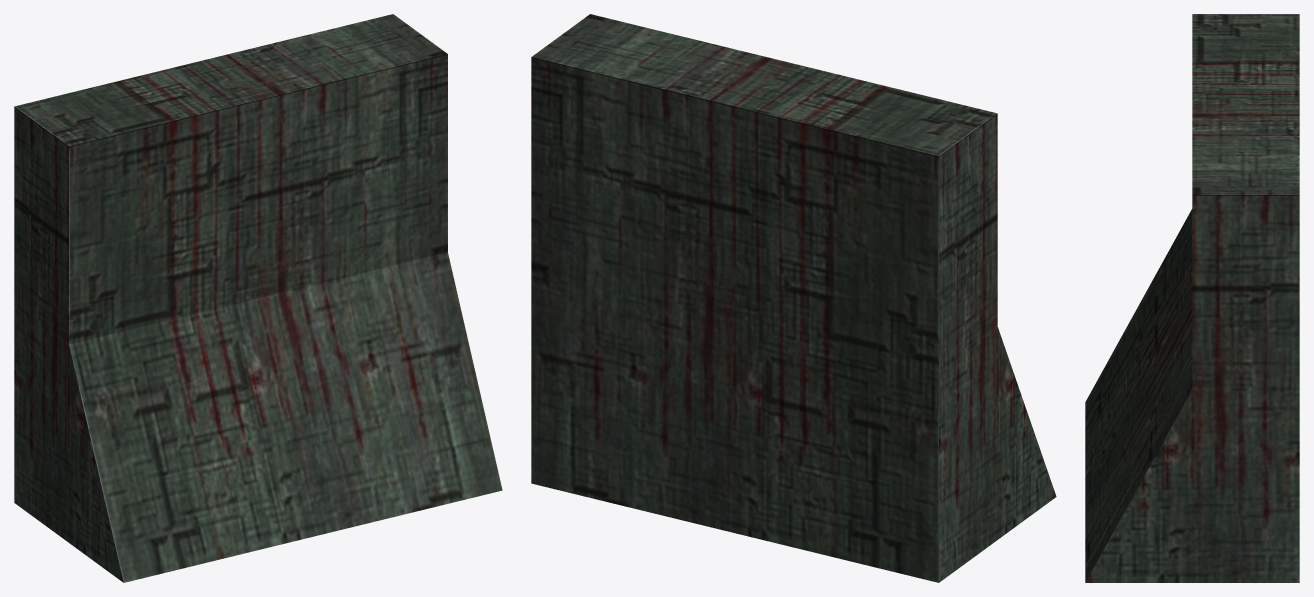
The model's file is spareWall.fbx.
3 renders of one model, left to right at view 1: azimuth 30°, elevation 25°; view 2: azimuth 150°, elevation 25°; view 3: azimuth 270°, elevation 25°, orthographic. The views are drawn at different scales.
Visible parts, largest first — view 1: SpareWall; view 2: SpareWall; view 3: SpareWall.
Part boxes in pixels (x1=…): SpareWall: x1=14, y1=14, x2=502, y2=582; SpareWall: x1=531, y1=14, x2=1056, y2=582; SpareWall: x1=1085, y1=14, x2=1299, y2=582.
Size of the model in its own units: 400 by 400 by 200.
